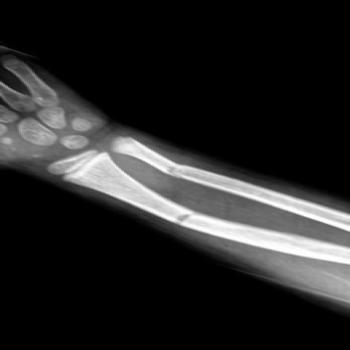Fracture: (164, 204, 203, 233), (152, 159, 194, 179)
